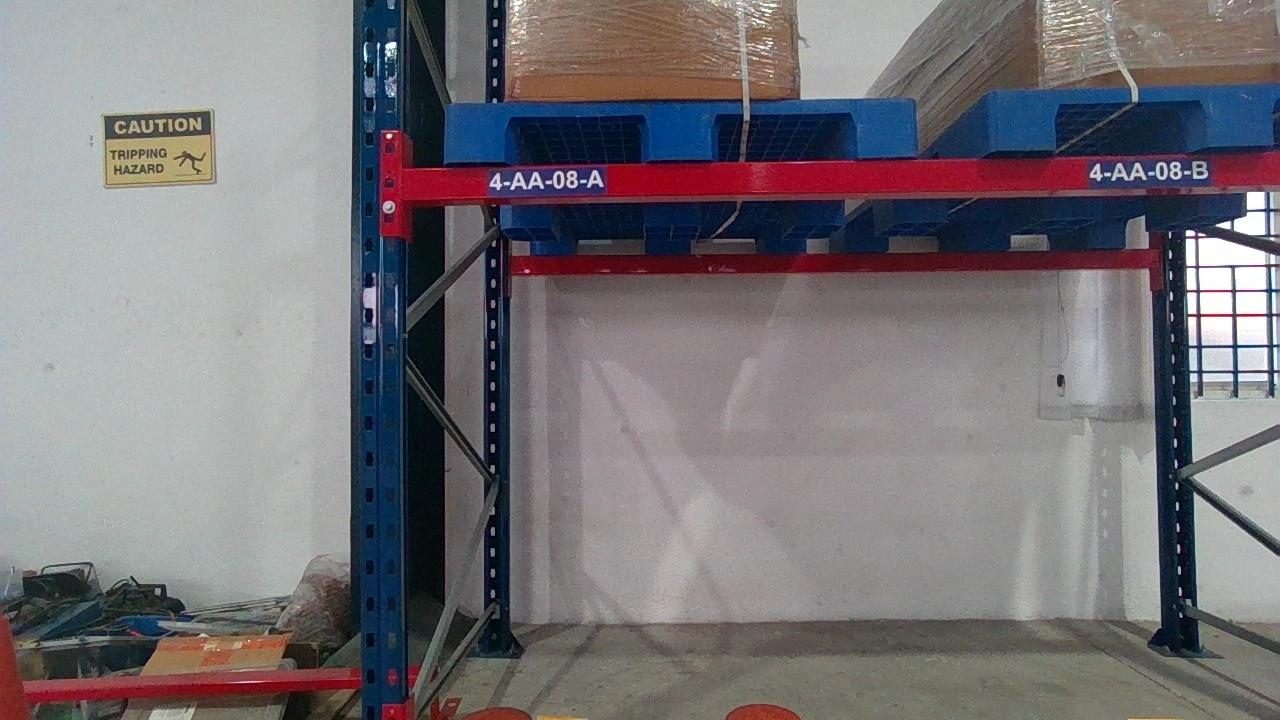h_rack: (397, 153, 1277, 198)
small_pallet: (442, 98, 915, 158), (990, 83, 1278, 146)
